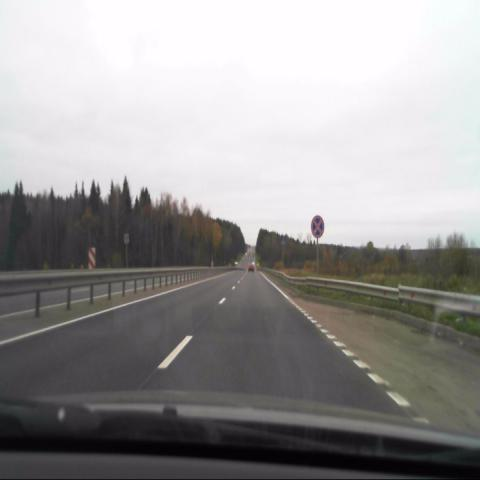3_27: (310, 214, 325, 238)
